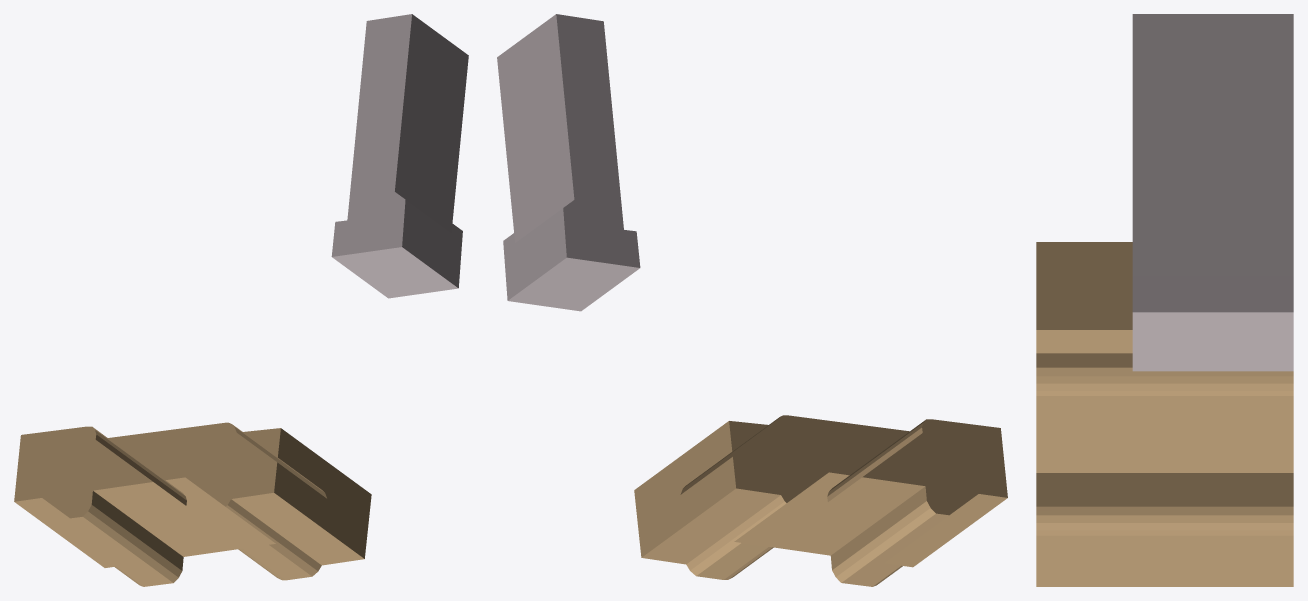
3 renders of one model, left to right at view 1: azimuth 30°, elevation 25°; view 2: azimuth 150°, elevation 25°; view 3: azimuth 270°, elevation 25°, orthographic. The views are drawn at different scales.
Visible parts, largest first — view 1: 0_3_0_1_2_2_2_0; view 2: 0_3_0_1_2_2_2_0; view 3: 0_3_0_1_2_2_2_0.
Part boxes in pixels (x1=…): 0_3_0_1_2_2_2_0: x1=14, y1=14, x2=468, y2=586; 0_3_0_1_2_2_2_0: x1=497, y1=14, x2=1007, y2=586; 0_3_0_1_2_2_2_0: x1=1036, y1=14, x2=1293, y2=586.
Size of the model in its own units: 60.79 by 66.25 by 24.
